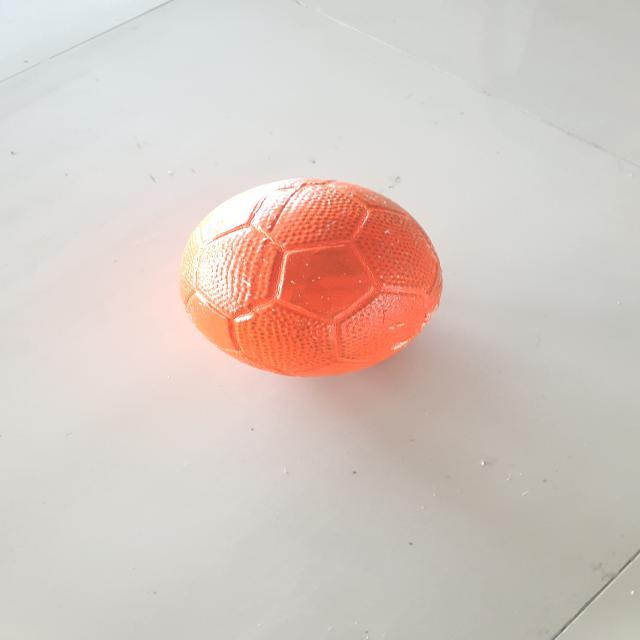bola: (176, 163, 462, 390)
